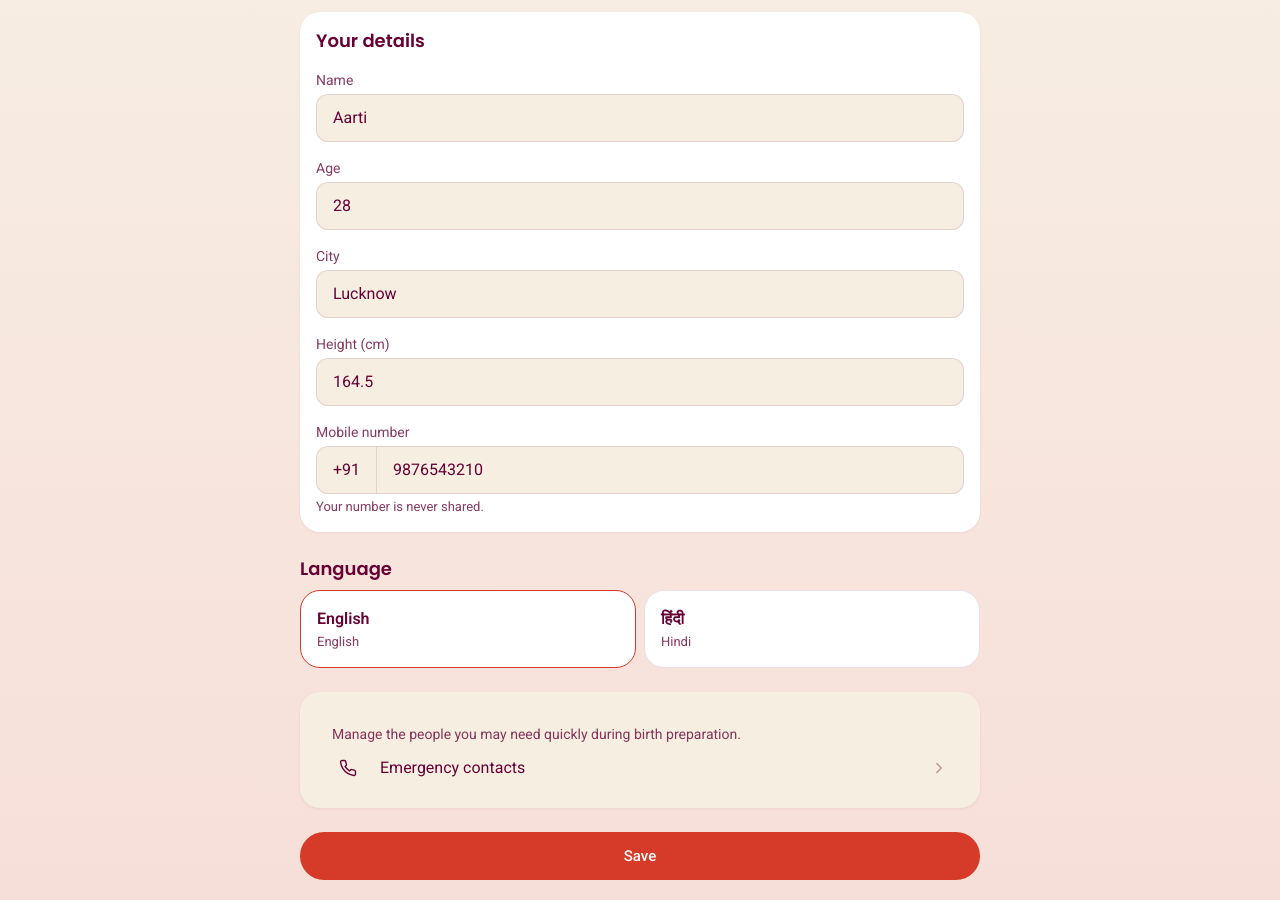
Scenario: PersonalInfoForm › refuses profile writes while offline
(page scrolled)
Click the button "Save": (640, 856) [300,832,980,880]
(page scrolled)
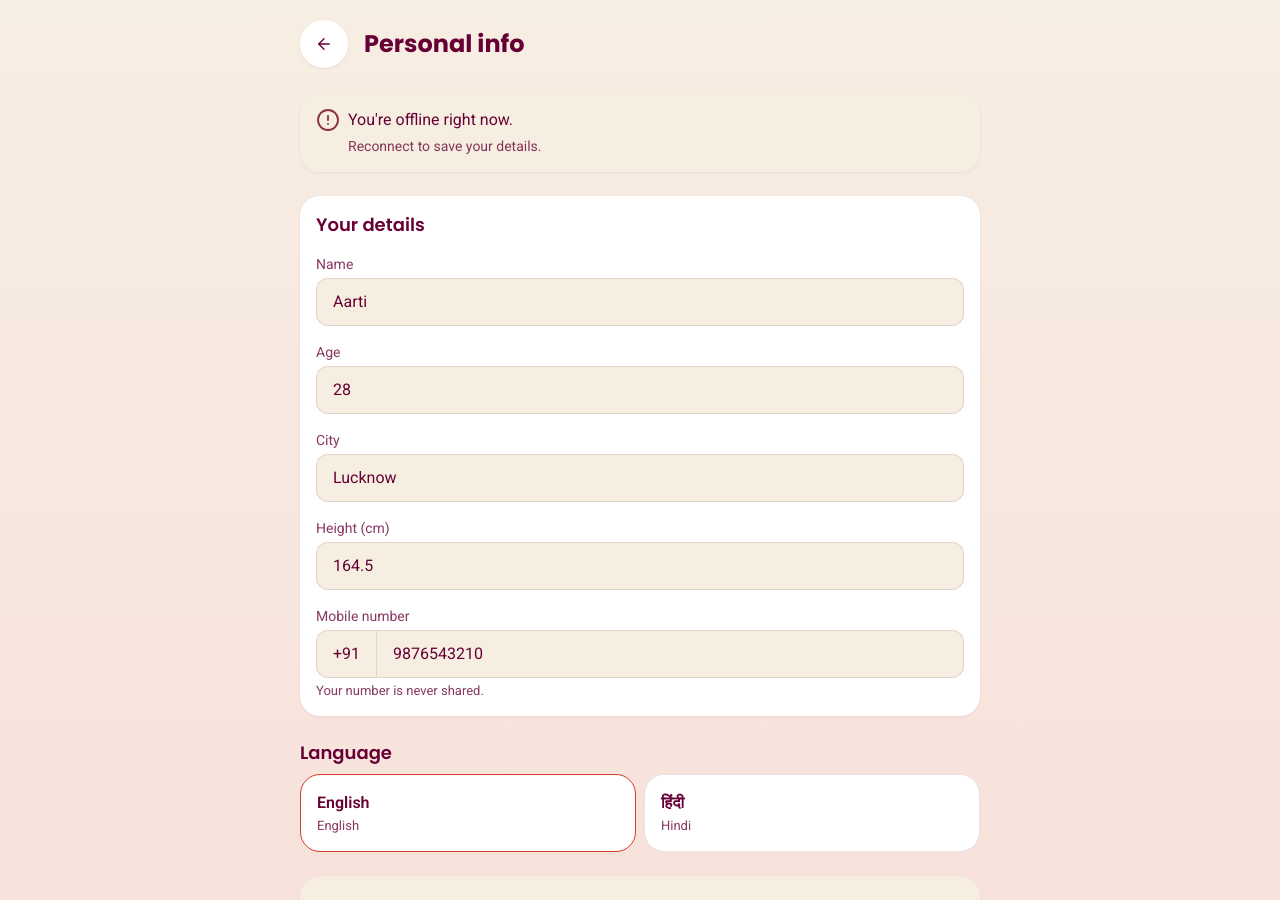
Result: the message shows "offline" at [348,110,513,129]
